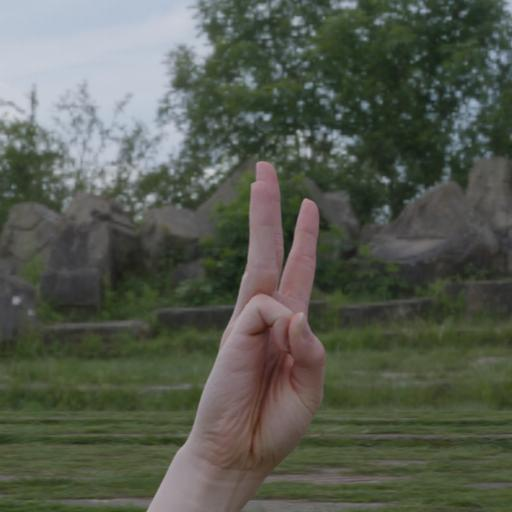W: (191, 150, 338, 472)
